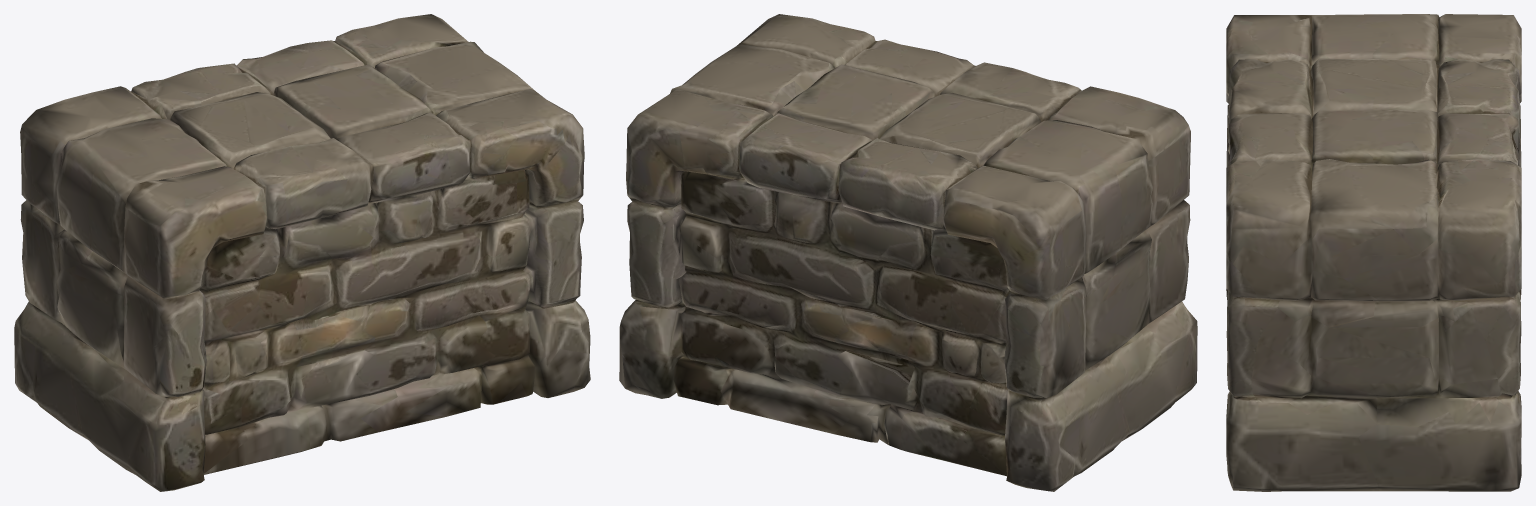
File: k-wall.glb
The picture shows the model from 3 angles, left to right: view 1: azimuth 30°, elevation 25°; view 2: azimuth 150°, elevation 25°; view 3: azimuth 270°, elevation 25°; orthographic projection.
Bounding box in the file's own units: 0.957 × 0.582 × 0.5532.
1 material, 1 textured.
